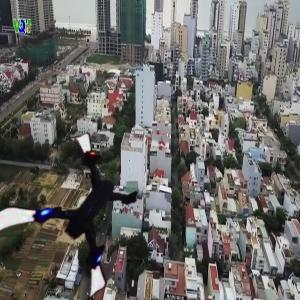drone: (7, 151, 154, 298)
